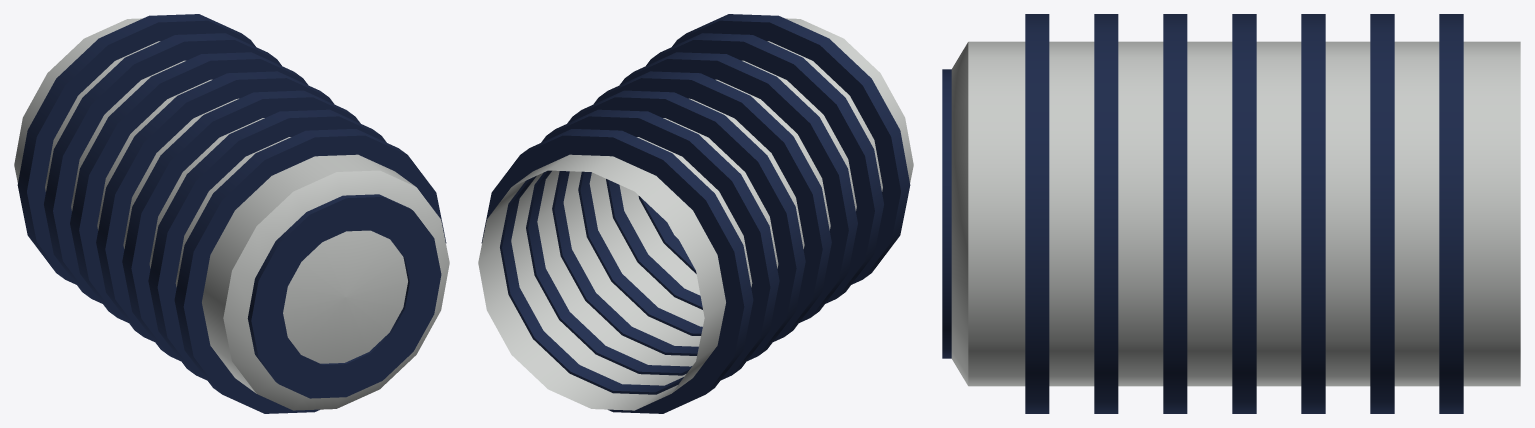
The model's file is s200_vessel.obj.
3 views of the same model, side by side, from view 1: azimuth 30°, elevation 25°; view 2: azimuth 150°, elevation 25°; view 3: azimuth 270°, elevation 25° (orthographic). The views are drawn at different scales.
Visible parts, largest first — view 1: s200_vessel; view 2: s200_vessel; view 3: s200_vessel.
Boxes of the visible parts, x1,y1,x2,y2 form: s200_vessel: [14, 14, 449, 413]; s200_vessel: [478, 14, 913, 413]; s200_vessel: [942, 14, 1520, 413].
Bounding box in the file's own units: 1.16 × 1.16 × 1.68.
